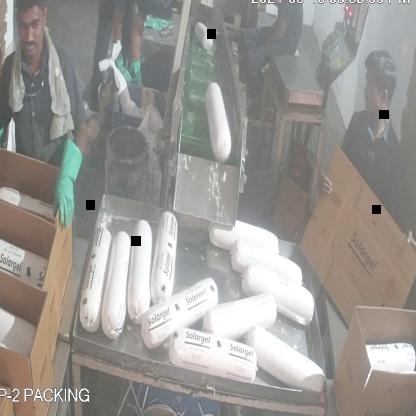glove: (51, 135, 85, 235), (0, 120, 10, 192)
